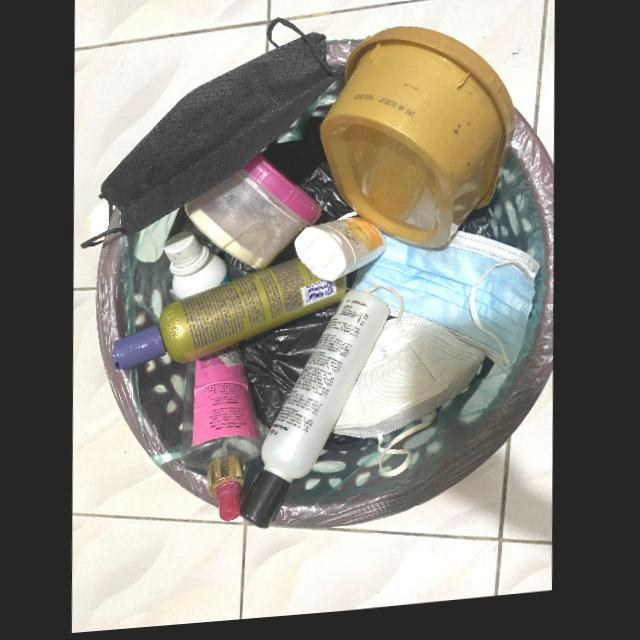plastic_bottle: (243, 295, 392, 534), (112, 263, 348, 372), (182, 355, 263, 526), (295, 221, 388, 287), (164, 234, 230, 304)
plastic_container: (319, 34, 516, 259), (185, 158, 323, 274)
